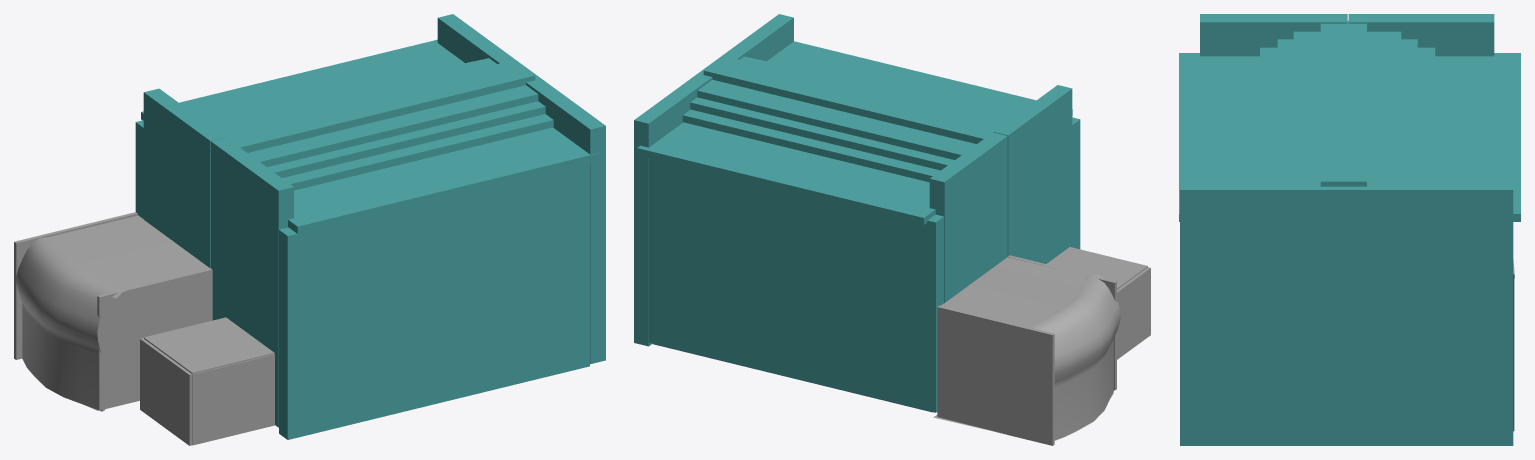
File: TempleInterior_Week3.fbx
The picture shows the model from 3 angles, left to right: view 1: azimuth 30°, elevation 25°; view 2: azimuth 150°, elevation 25°; view 3: azimuth 270°, elevation 25°; orthographic projection. The views are drawn at different scales.
Visible parts, largest first — view 1: polySurface541, polySurface563, polySurface521, polySurface542, BackroomWall3, polySurface527, BackroomWall1, Entrance_Wall, polySurface555, pPlane12, pCube257, pCube260 (+3 smaller); view 2: polySurface528, polySurface563, BackroomWall2, polySurface555, polySurface521, polySurface527, BackroomWall3, Entrance_Wall, polySurface542, pPlane12, pCube259, pCube260 (+2 smaller); view 3: Entrance_Wall, polySurface563, polySurface555, polySurface542, polySurface527, polySurface521.
Boxes of the visible parts, bbox=[...] form: polySurface541: bbox=[279, 162, 589, 439]; polySurface563: bbox=[210, 58, 553, 190]; polySurface521: bbox=[211, 137, 293, 427]; polySurface542: bbox=[288, 127, 599, 233]; BackroomWall3: bbox=[15, 237, 129, 411]; polySurface527: bbox=[143, 88, 225, 268]; BackroomWall1: bbox=[97, 268, 212, 410]; Entrance_Wall: bbox=[437, 14, 605, 364]; polySurface555: bbox=[141, 39, 464, 125]; pPlane12: bbox=[49, 215, 209, 289]; pCube257: bbox=[192, 354, 274, 445]; pCube260: bbox=[144, 317, 274, 374]; polySurface528: bbox=[649, 158, 943, 412]; polySurface563: bbox=[682, 56, 1008, 182]; BackroomWall2: bbox=[937, 305, 1054, 445]; polySurface555: bbox=[637, 122, 935, 224]; polySurface521: bbox=[993, 85, 1072, 263]; polySurface527: bbox=[929, 132, 1007, 303]; BackroomWall3: bbox=[1026, 274, 1120, 440]; Entrance_Wall: bbox=[634, 14, 793, 346]; polySurface542: bbox=[767, 41, 1072, 120]; pPlane12: bbox=[937, 257, 1087, 326]; pCube259: bbox=[1117, 267, 1150, 359]; pCube260: bbox=[1046, 247, 1147, 289]; Entrance_Wall: bbox=[1180, 181, 1513, 445]; polySurface563: bbox=[1260, 20, 1435, 186]; polySurface555: bbox=[1435, 53, 1520, 221]; polySurface542: bbox=[1179, 53, 1259, 221]; polySurface527: bbox=[1348, 14, 1494, 56]; polySurface521: bbox=[1200, 14, 1347, 56].
Bounding box in the file's own units: 29.13 × 14.96 × 17.48.
